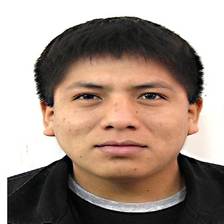no_mask: (54, 63, 188, 175)
